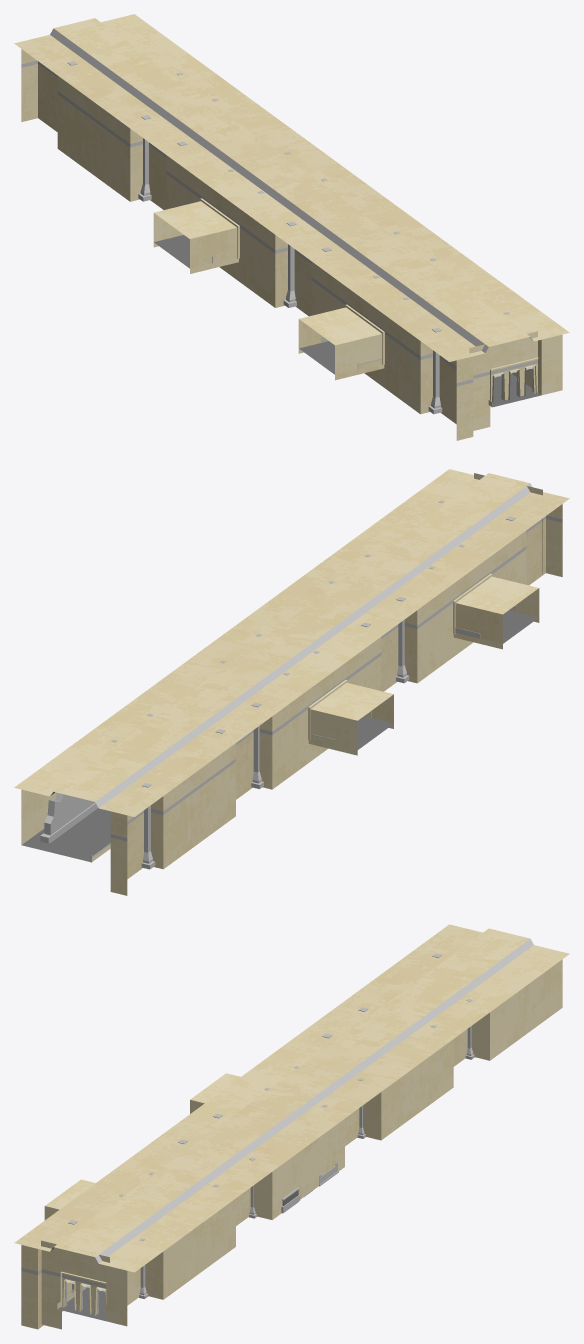
Rendered from Chunk03.fbx.
3 renders of one model, top to bottom at view 1: azimuth 30°, elevation 25°; view 2: azimuth 150°, elevation 25°; view 3: azimuth 330°, elevation 25°, orthographic.
Parts seen in each view (by area): view 1: Chunk03_mesh; view 2: Chunk03_mesh; view 3: Chunk03_mesh.
Part boxes in pixels (x1,y1,x2,y2): Chunk03_mesh: [14, 14, 569, 440]; Chunk03_mesh: [14, 469, 569, 895]; Chunk03_mesh: [14, 924, 569, 1329].
Size of the model in its own units: 12919 by 6840 by 60030.
